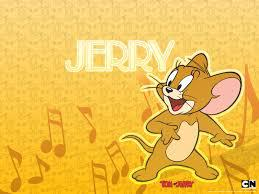jerry: (120, 51, 242, 182)
